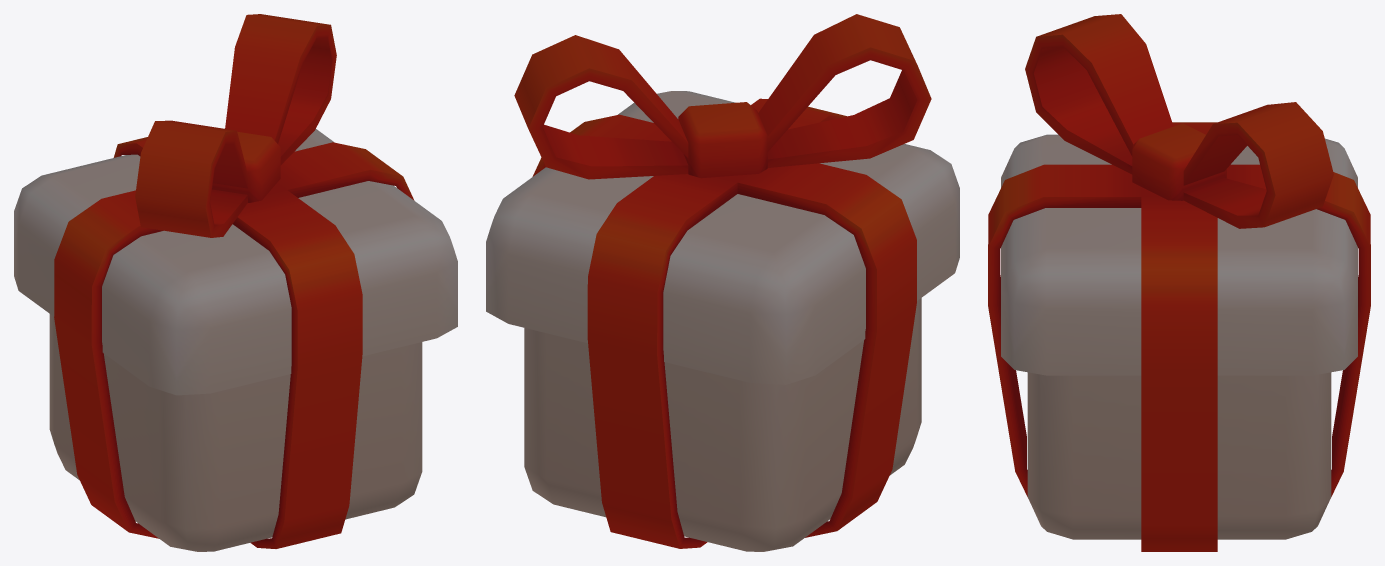
Rendered from gift_white.glb.
3 views of the same model, side by side, from view 1: azimuth 30°, elevation 25°; view 2: azimuth 150°, elevation 25°; view 3: azimuth 270°, elevation 25° (orthographic). The views are drawn at different scales.
Visible parts, largest first — view 1: gift_white; view 2: gift_white; view 3: gift_white.
Boxes of the visible parts, x1,y1,x2,y2 form: gift_white: [14, 14, 457, 551]; gift_white: [486, 14, 959, 551]; gift_white: [988, 14, 1370, 551].
Bounding box in the file's own units: 0.4021 × 0.506 × 0.4024.
Materials: 1 (1 with a texture image).
